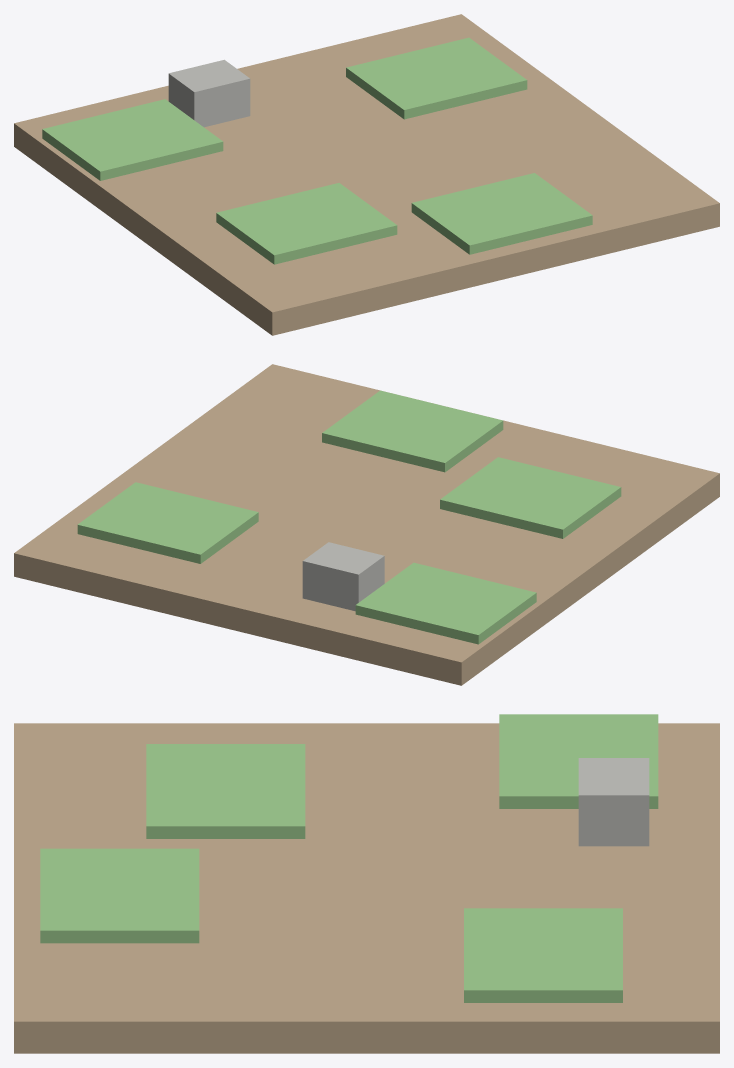
Rendered from ground_tile.glb.
3 renders of one model, top to bottom at view 1: azimuth 30°, elevation 25°; view 2: azimuth 150°, elevation 25°; view 3: azimuth 270°, elevation 25°, orthographic. The views are drawn at different scales.
Visible parts, largest first — view 1: GroundDirt, GrassPatch_1, GrassPatch_0, GrassPatch_2, GrassPatch_3, Rock; view 2: GroundDirt, GrassPatch_0, GrassPatch_2, GrassPatch_3, GrassPatch_1, Rock; view 3: GroundDirt, GrassPatch_2, GrassPatch_1, GrassPatch_0, GrassPatch_3, Rock.
Boxes of the visible parts, x1,y1,x2,y2 form: GroundDirt: (14, 14, 719, 335); GrassPatch_1: (216, 183, 397, 264); GrassPatch_0: (346, 37, 527, 119); GrassPatch_2: (411, 173, 592, 254); GrassPatch_3: (42, 99, 223, 180); Rock: (168, 59, 250, 127); GroundDirt: (14, 364, 719, 685); GrassPatch_0: (77, 482, 258, 563); GrassPatch_2: (322, 390, 503, 472); GrassPatch_3: (355, 562, 536, 644); GrassPatch_1: (440, 457, 621, 538); Rock: (302, 542, 384, 611); GroundDirt: (14, 723, 719, 1053); GrassPatch_2: (40, 848, 199, 943); GrassPatch_1: (146, 744, 305, 838); GrassPatch_0: (464, 908, 622, 1002); GrassPatch_3: (499, 714, 658, 808); Rock: (578, 758, 649, 846).
Bounding box in the file's own units: 2 × 0.26 × 2.
